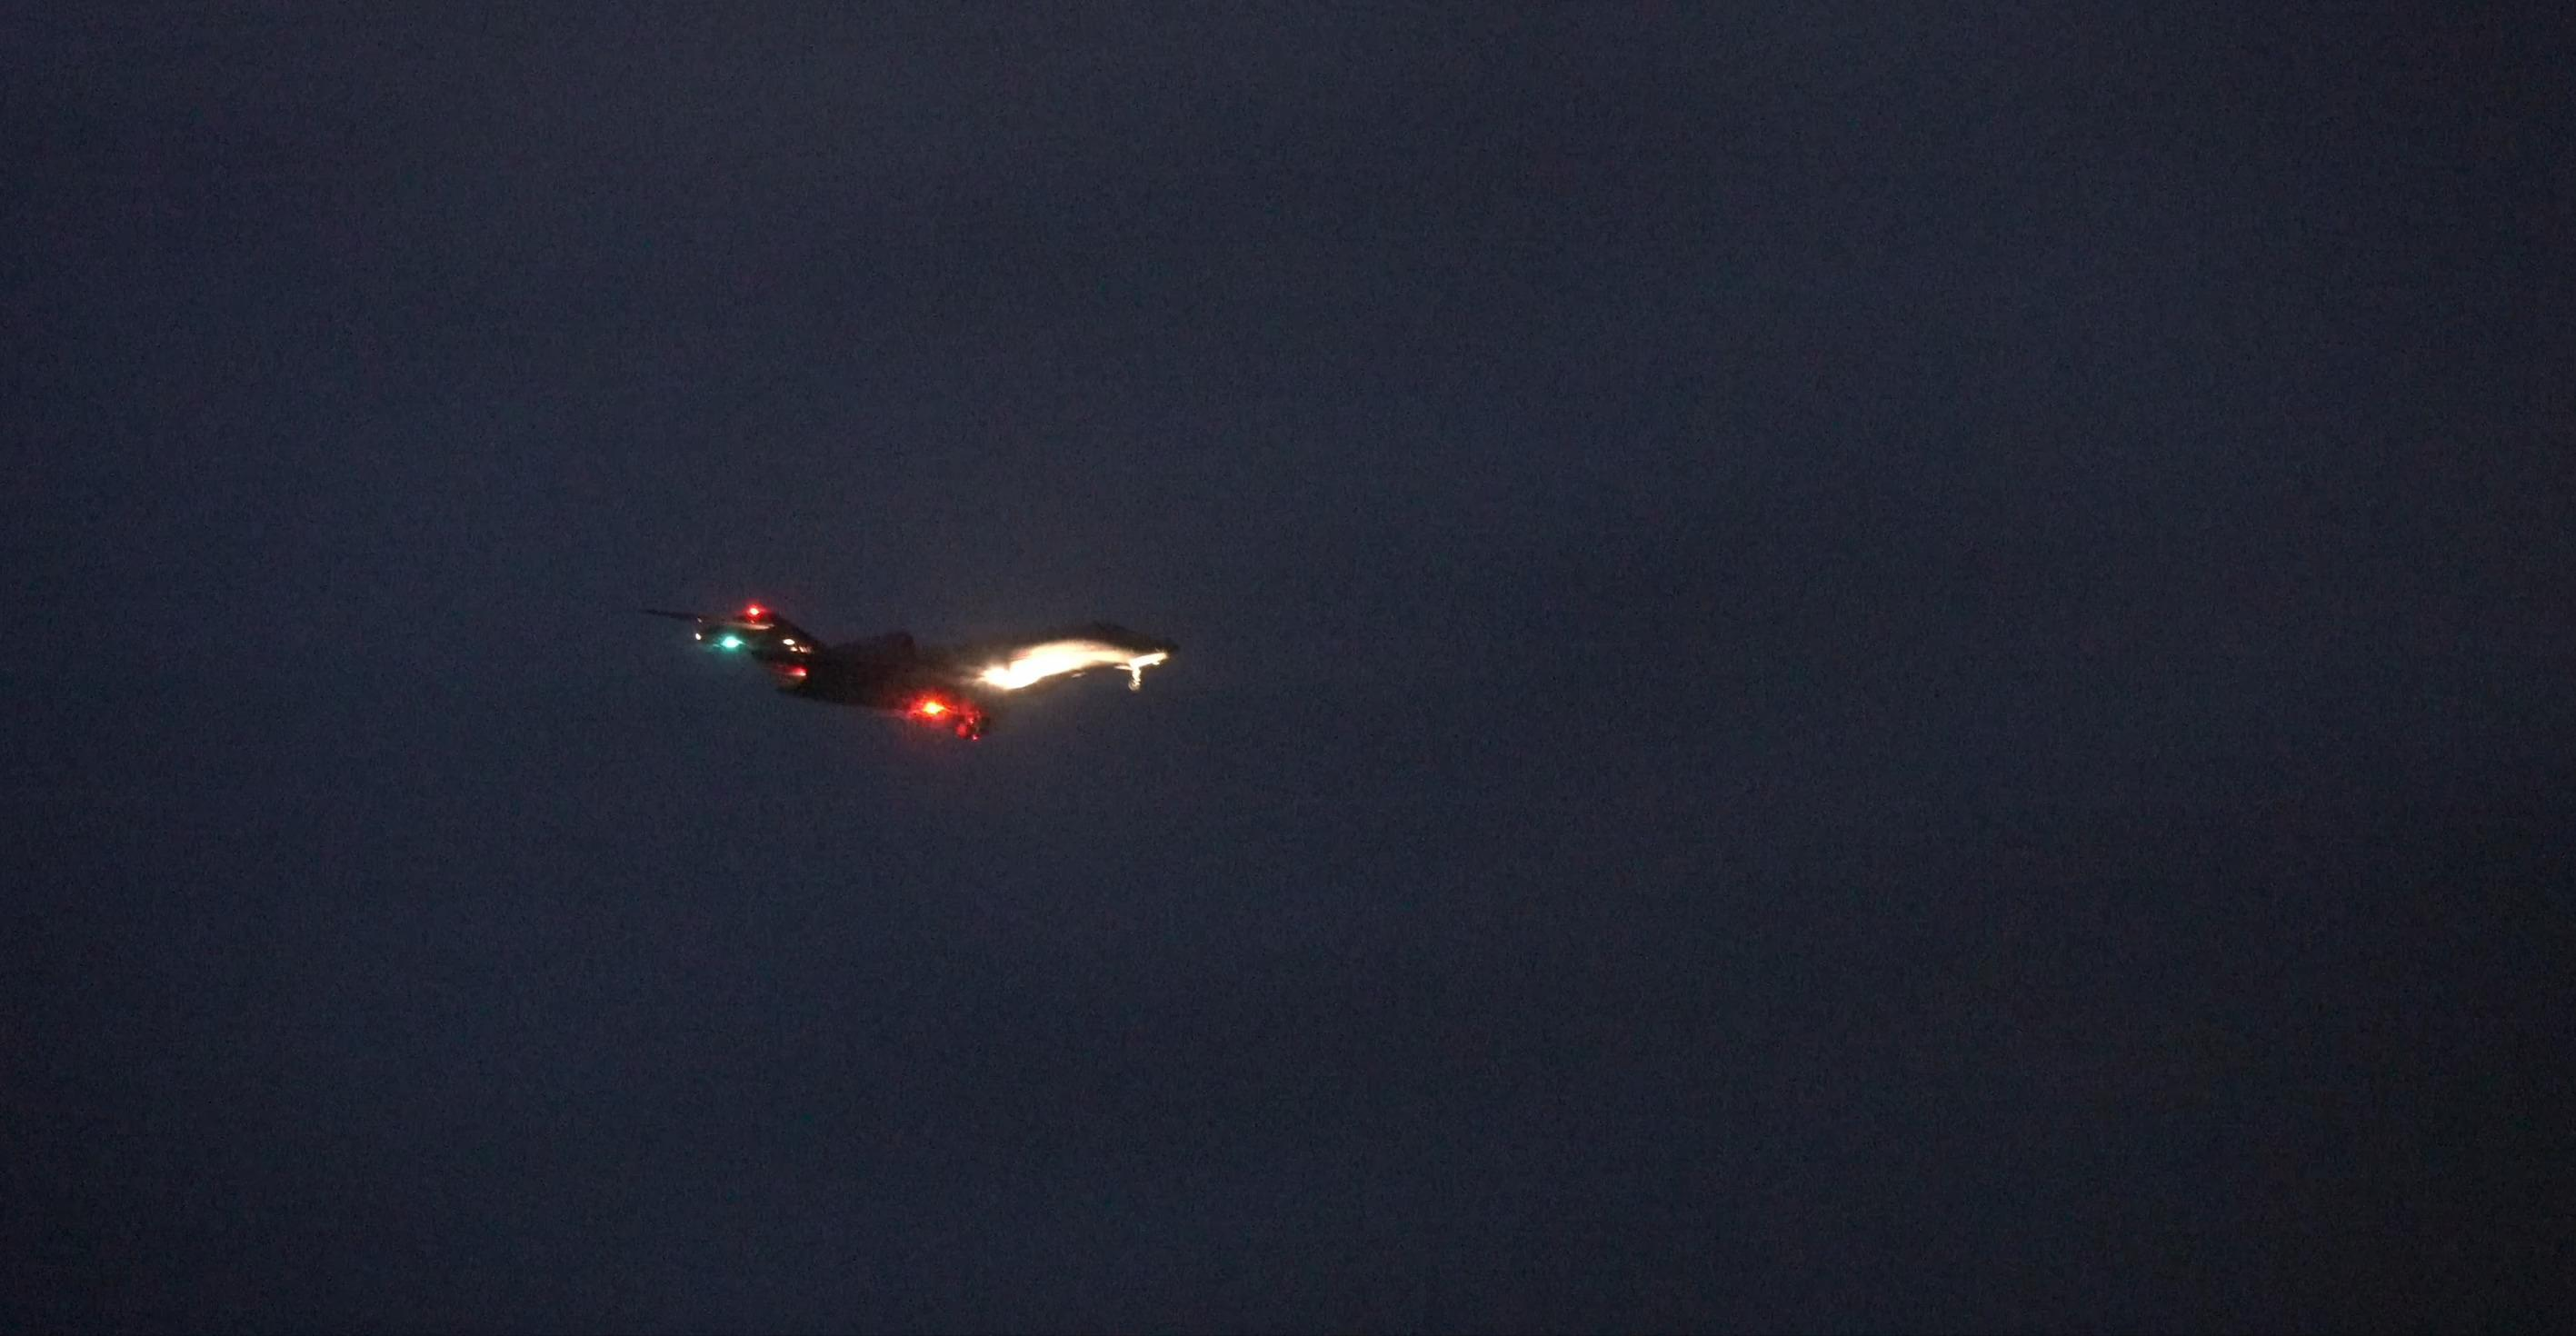Plane: (673, 556, 1261, 763)
